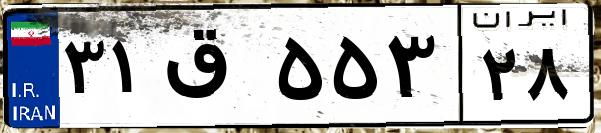1: (110, 28, 158, 98)
2: (475, 38, 525, 113)
3: (385, 28, 445, 110), (57, 26, 110, 100)
5: (270, 28, 330, 110), (330, 28, 385, 110)
8: (525, 38, 570, 115)
ق: (158, 20, 270, 120)
